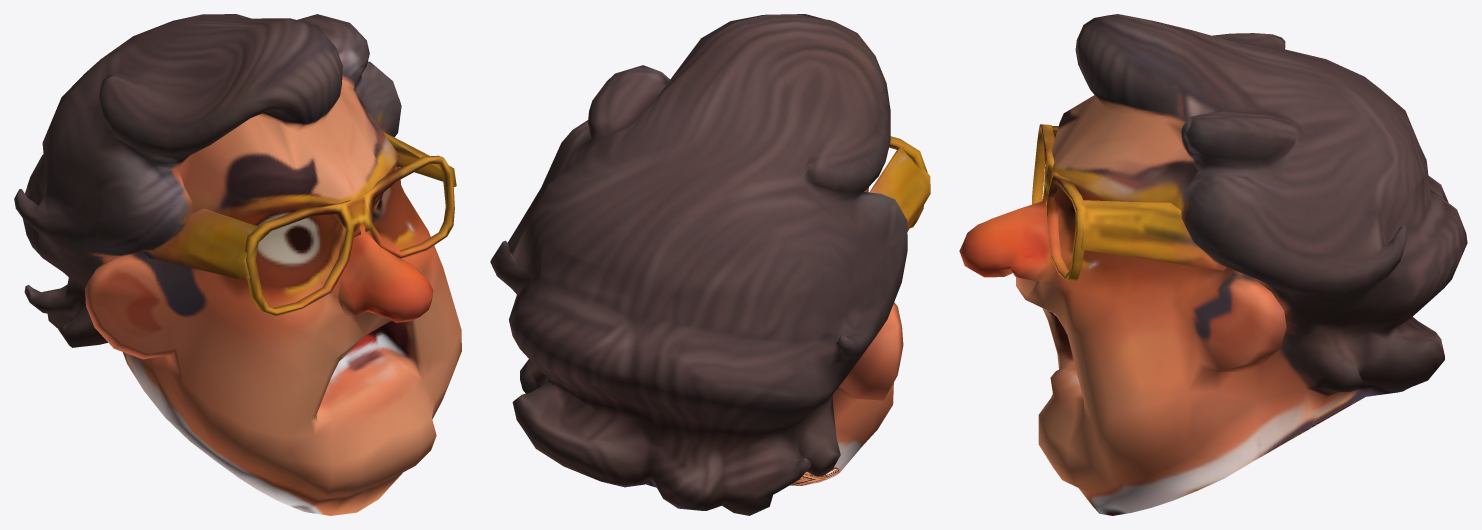
The model's file is pieza_cara_asustado.glb.
3 renders of one model, left to right at view 1: azimuth 30°, elevation 25°; view 2: azimuth 150°, elevation 25°; view 3: azimuth 270°, elevation 25°, orthographic. The views are drawn at different scales.
Visible parts, largest first — view 1: pieza_cara_asustado; view 2: pieza_cara_asustado; view 3: pieza_cara_asustado.
Boxes of the visible parts, <box> form: pieza_cara_asustado: <box>14,14,461,515</box>; pieza_cara_asustado: <box>490,14,930,515</box>; pieza_cara_asustado: <box>959,14,1467,515</box>.
Size of the model in its own units: 0.477 by 0.6105 by 0.6121.
1 material, 1 textured.
